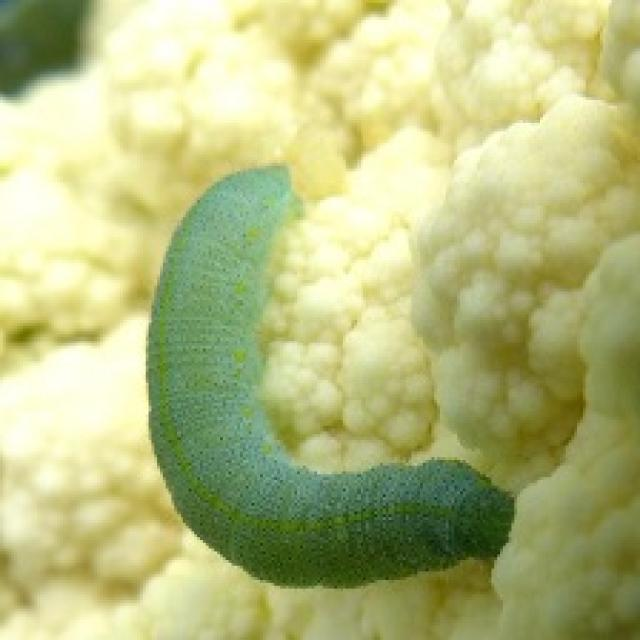Cabbage-worm: (153, 129, 516, 597)
